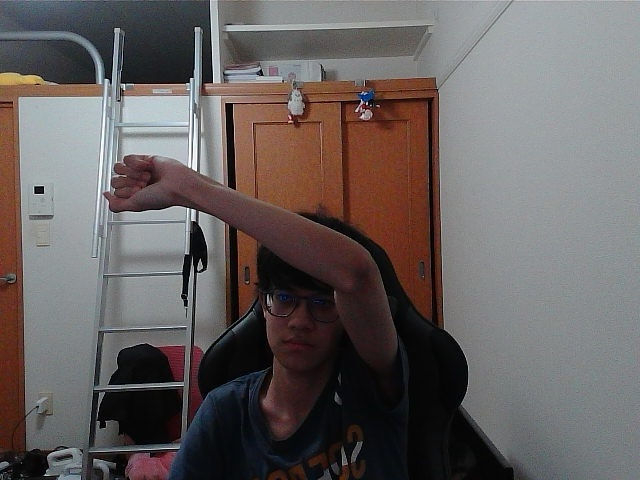closed_palm: (108, 158, 174, 206)
